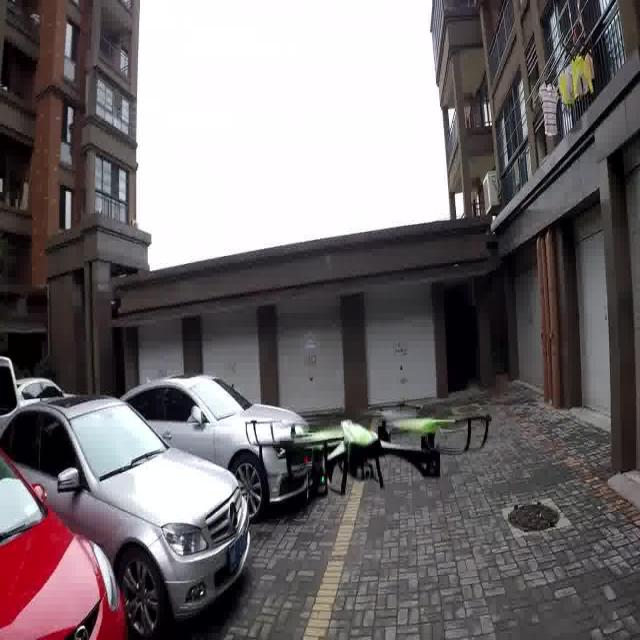drone: (235, 369, 502, 501)
